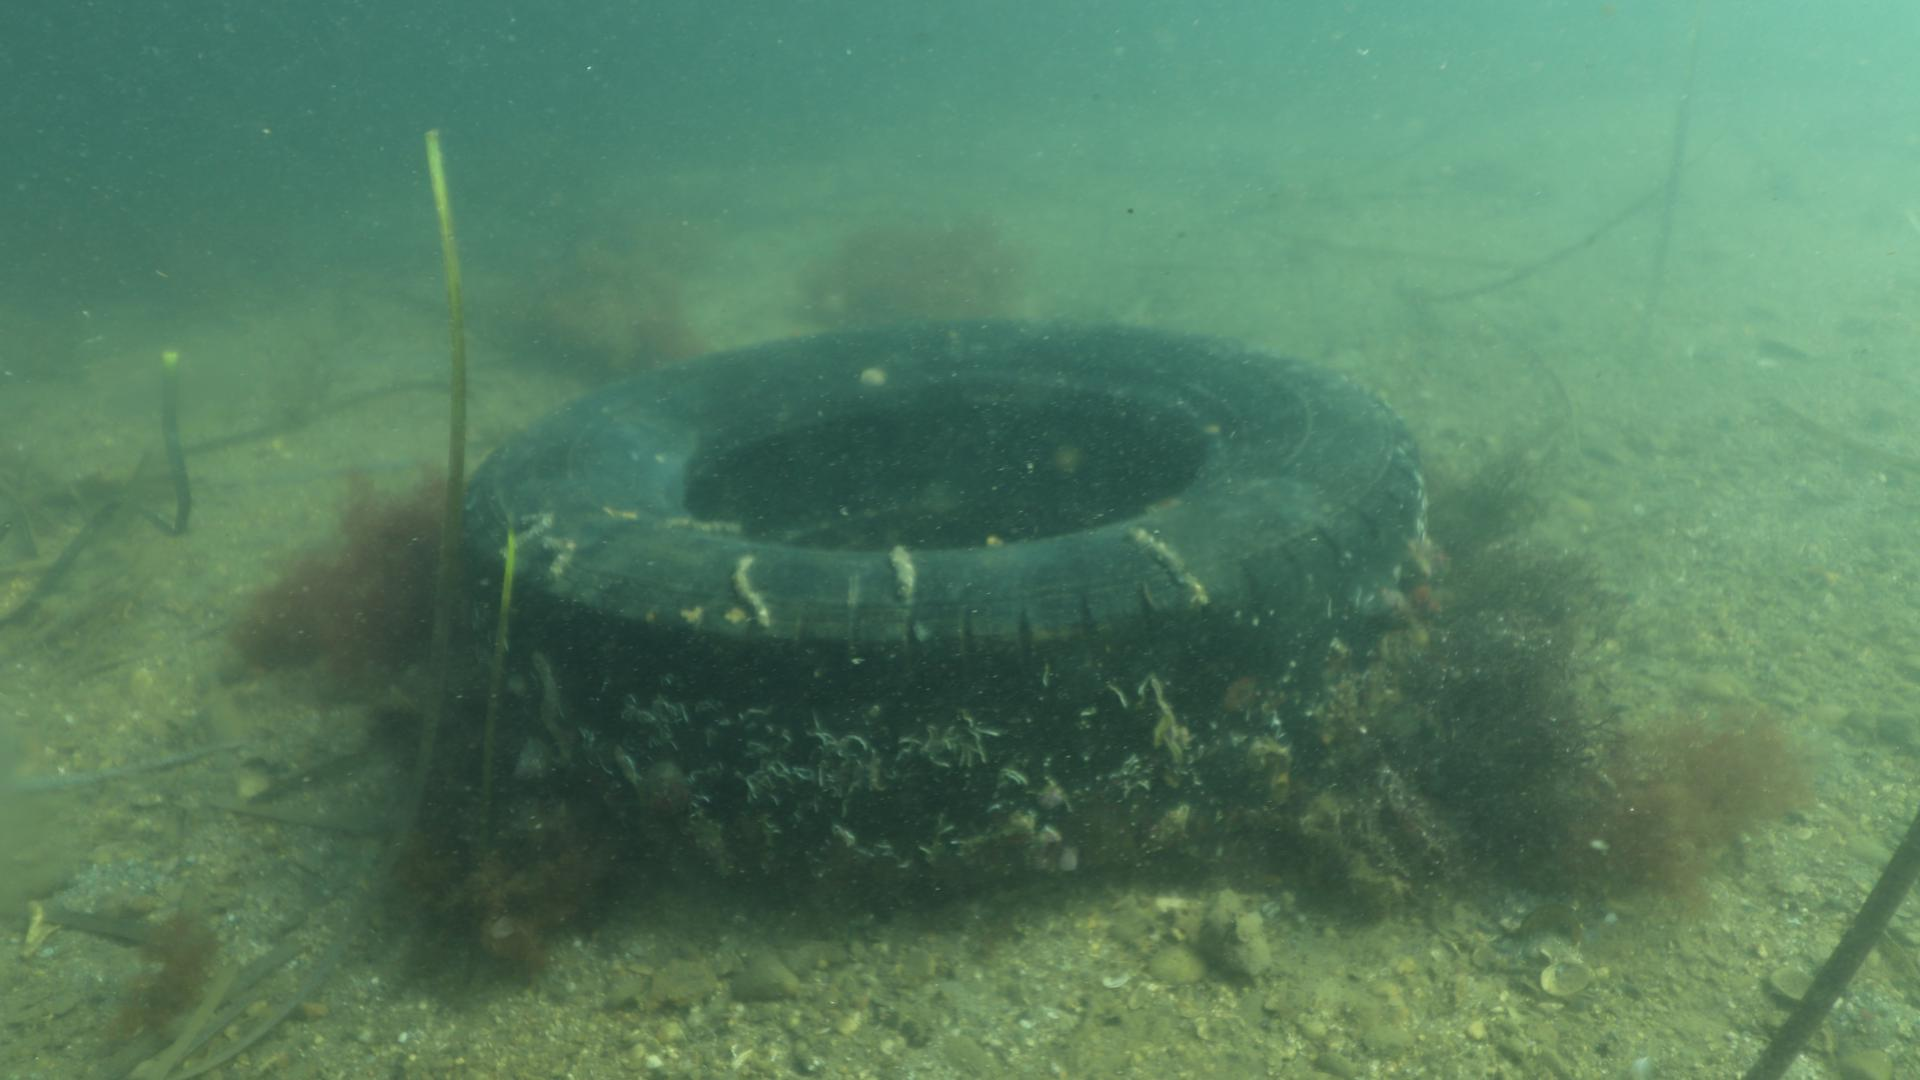tire: (462, 314, 1424, 899)
